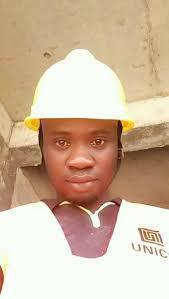helmet: (24, 48, 135, 128)
